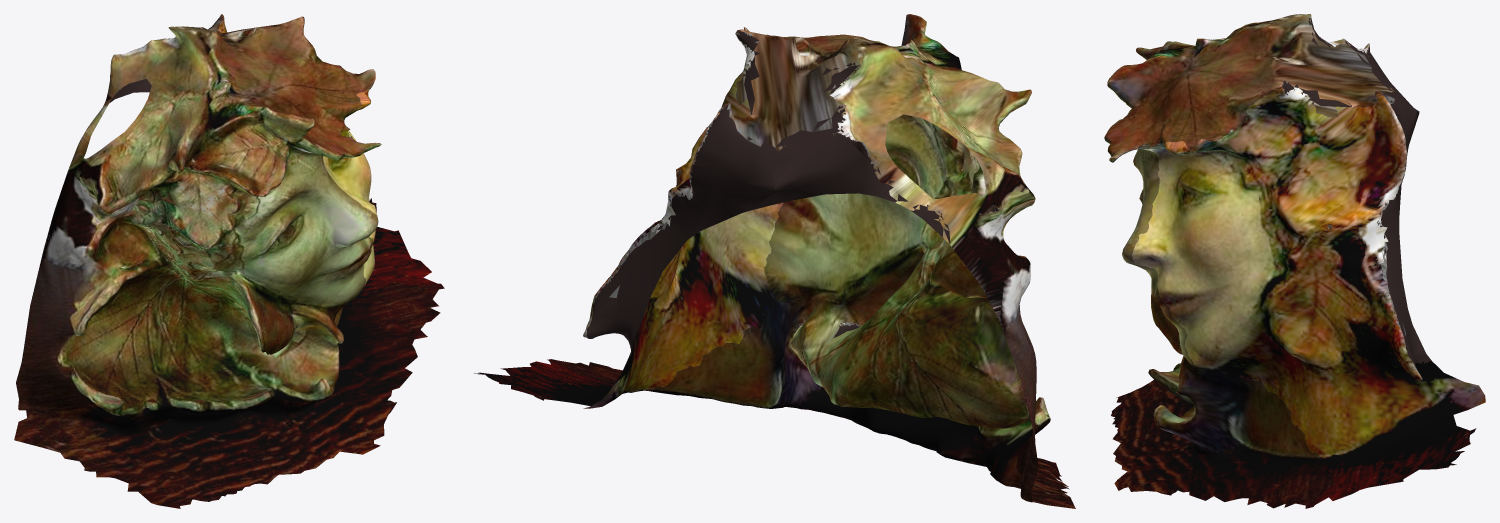
The model's file is bladerKop.glb.
The picture shows the model from 3 angles, left to right: view 1: azimuth 30°, elevation 25°; view 2: azimuth 150°, elevation 25°; view 3: azimuth 270°, elevation 25°; orthographic projection. The views are drawn at different scales.
Parts seen in each view (by area): view 1: bladerKop; view 2: bladerKop; view 3: bladerKop.
Part boxes in pixels (x1,y1,x2,y2): bladerKop: (14,14,444,508); bladerKop: (474,14,1075,508); bladerKop: (1104,14,1485,508).
Size of the model in its own units: 20.25 by 17.34 by 13.98.
1 material, 1 textured.
